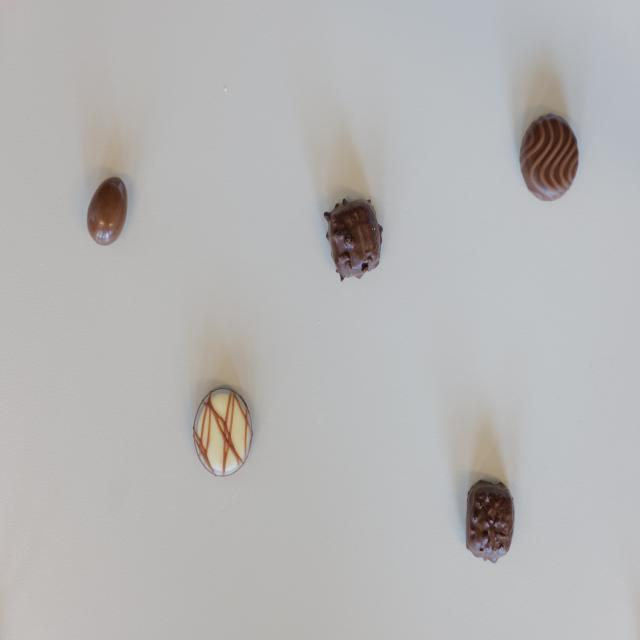Creme_brulee: (192, 388, 254, 477)
Jelly_Milk: (87, 178, 128, 247)
Noir_authentique: (520, 114, 579, 200)
Tentation_noir: (324, 198, 384, 282), (465, 480, 514, 561)
